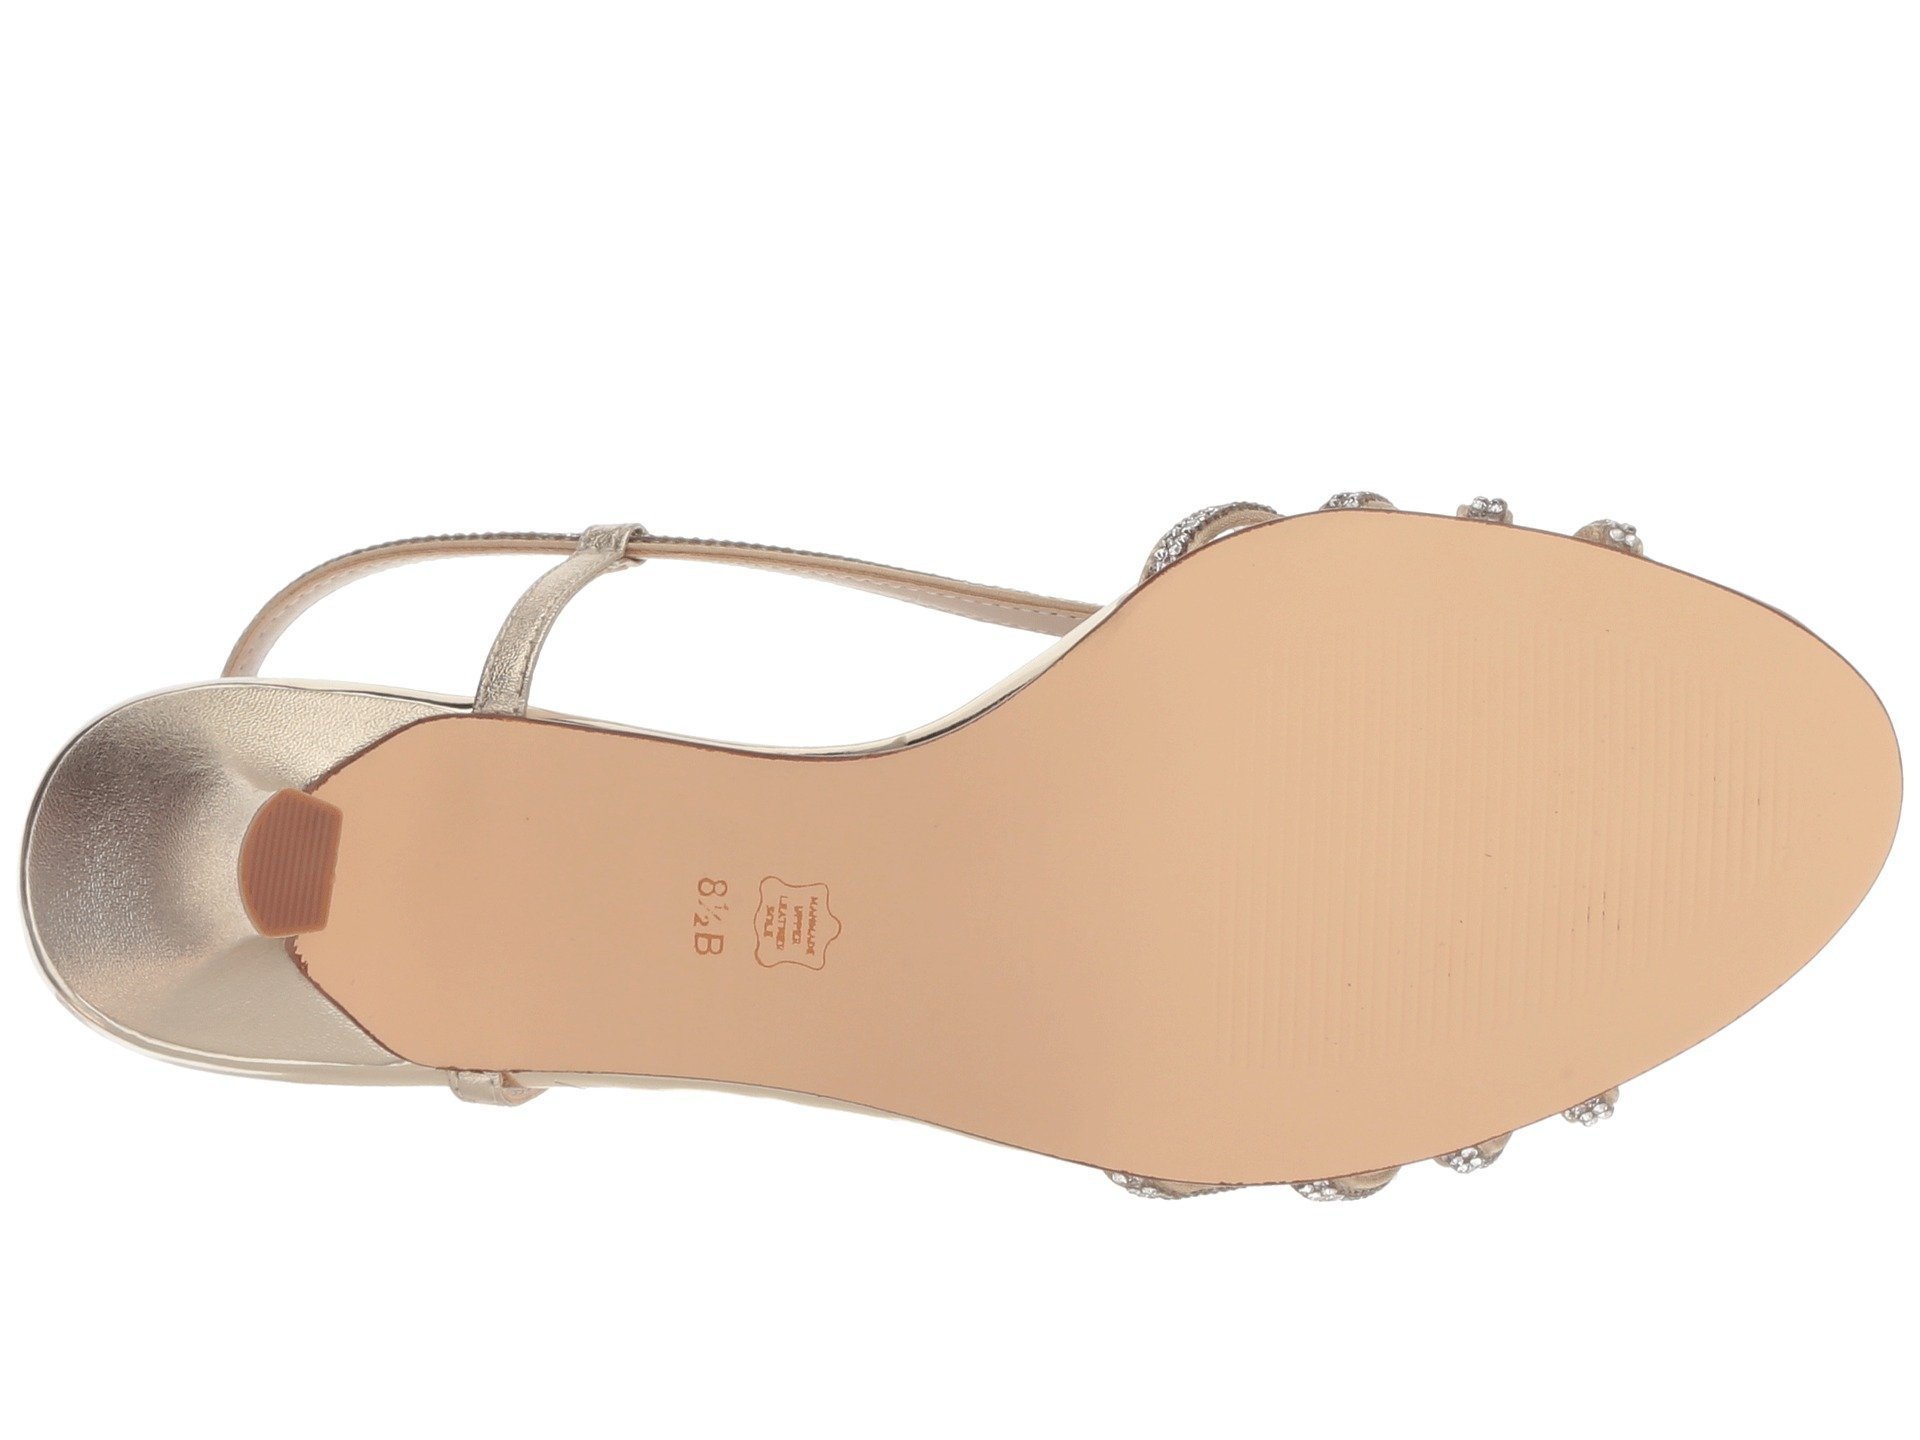line: (1277, 653, 1769, 995), (263, 815, 316, 911)
